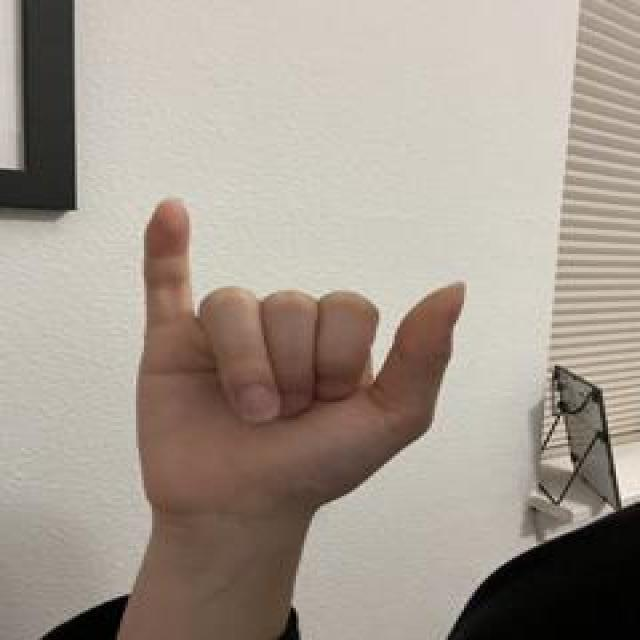Y: (132, 191, 473, 523)
